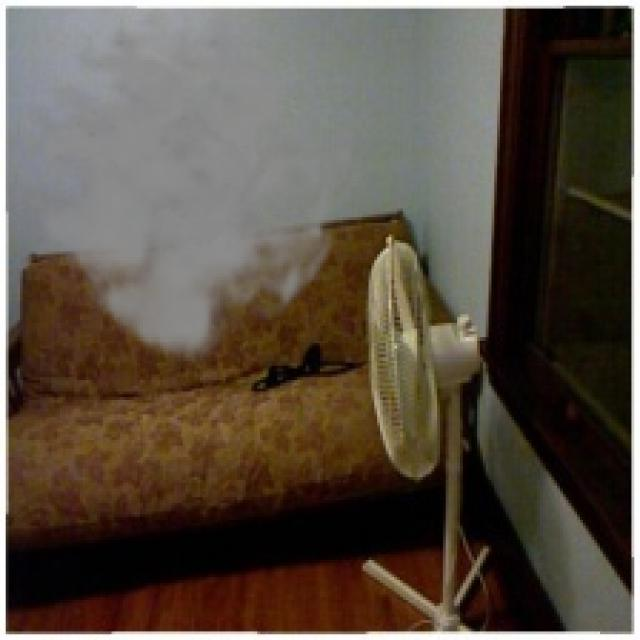smoke: (6, 6, 371, 366)
